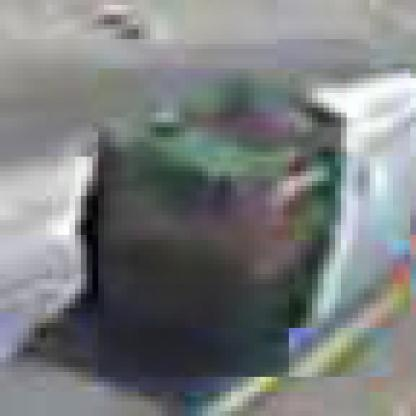truck: (94, 70, 412, 383)
